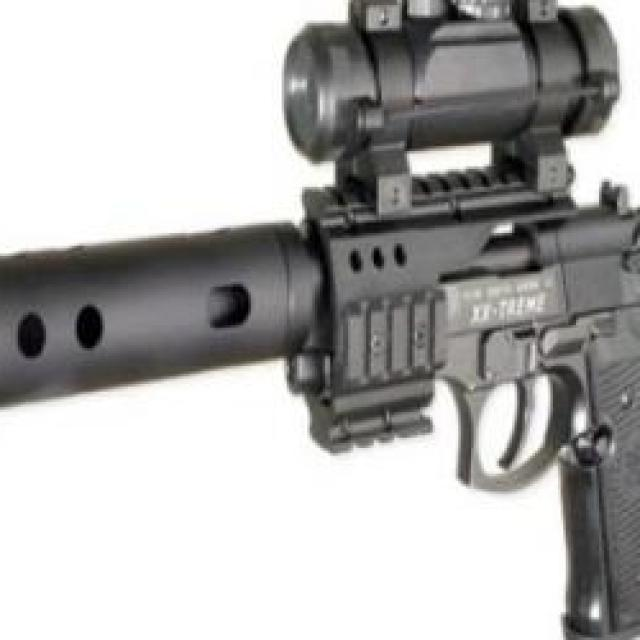pistol: (297, 189, 640, 640)
